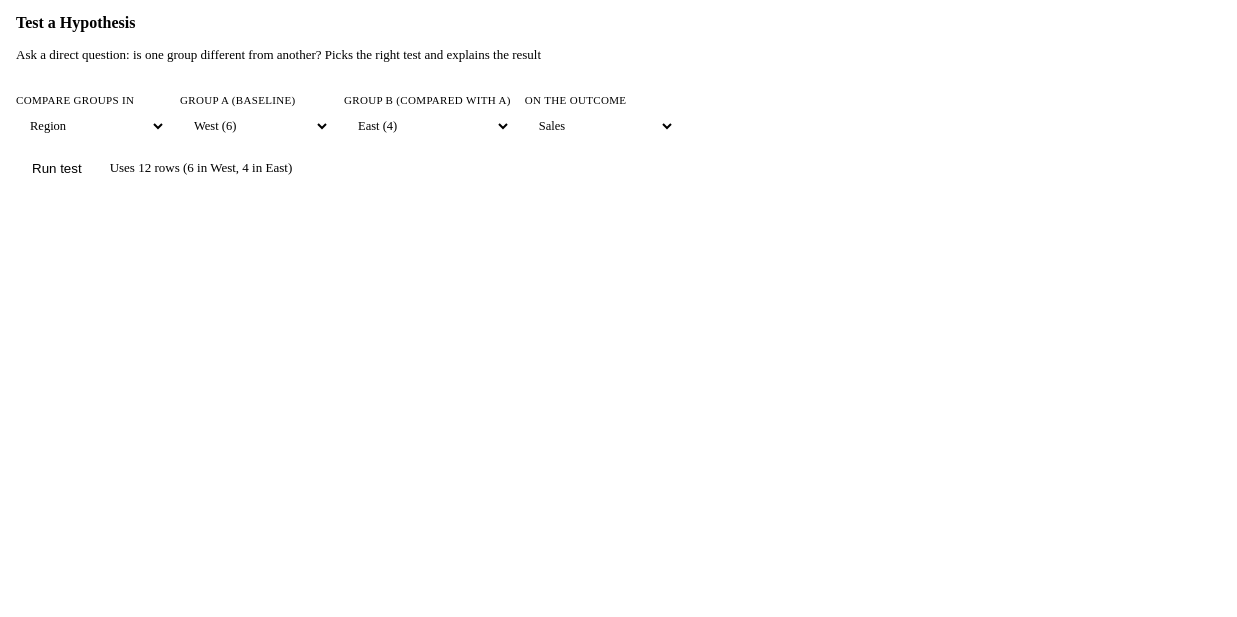
Scenario: HypothesisTestPanel › a disagreeing cross-check is shown as a different conclusion
Click the button "Run test" at x=57, y=168, box 16,152 -> 98,184
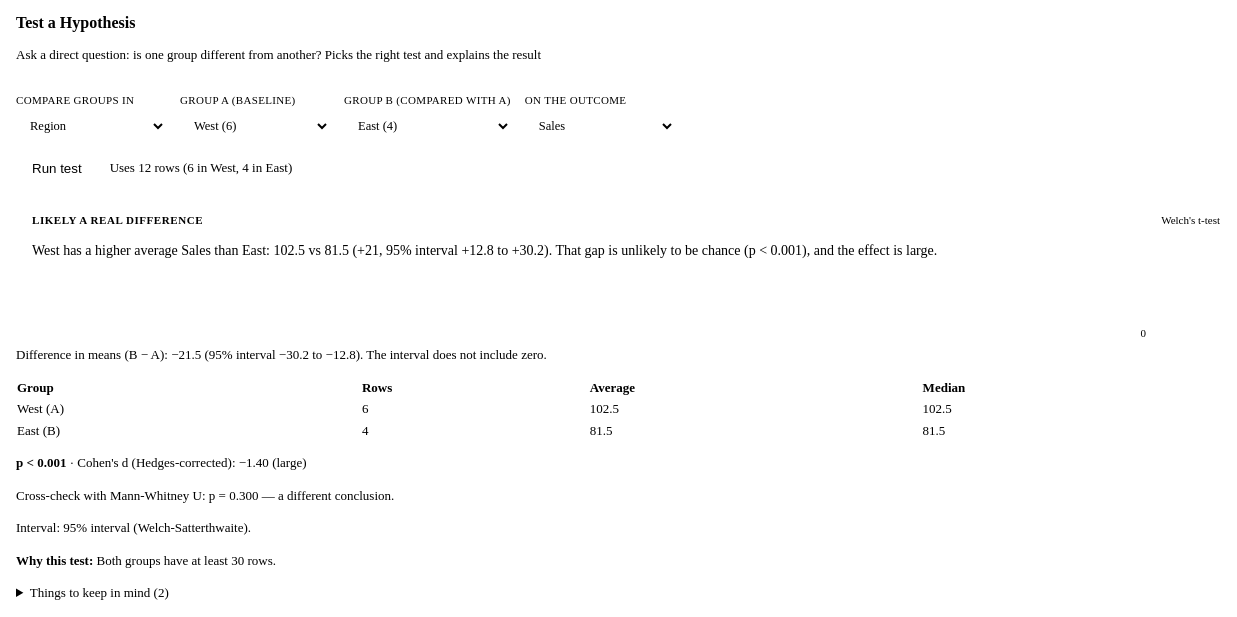
Now the text "Likely a real difference" is shown, box 32,214 -> 203,226
Now the text "Cross-check with Mann-Whitney U" shows "a different conclusion", box 258,488 -> 394,503
